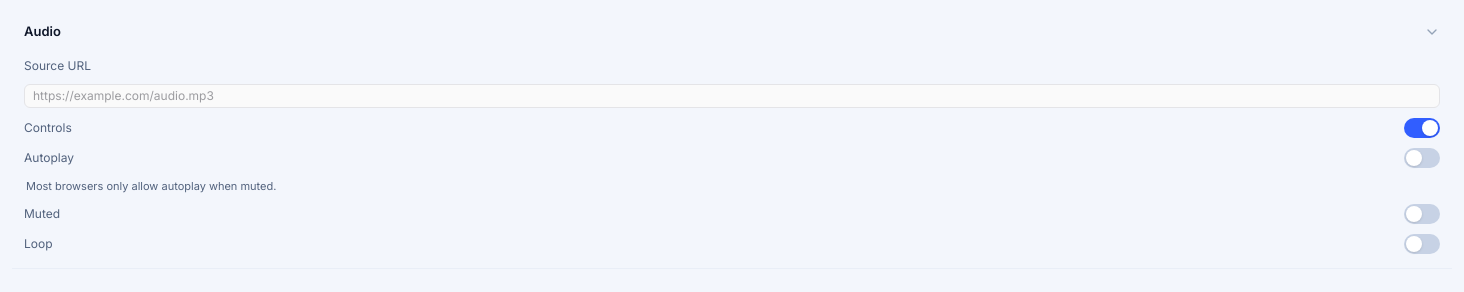
Test case: InspectorAudioSection (Checkpoint 1.15.6.12.3) › rejects a javascript: Source URL and shows an error instead of committing
Type "javascript:alert(1)" into the field labelled "Source URL". click: {"x": 732, "y": 96}
box: [24,84,1440,108]
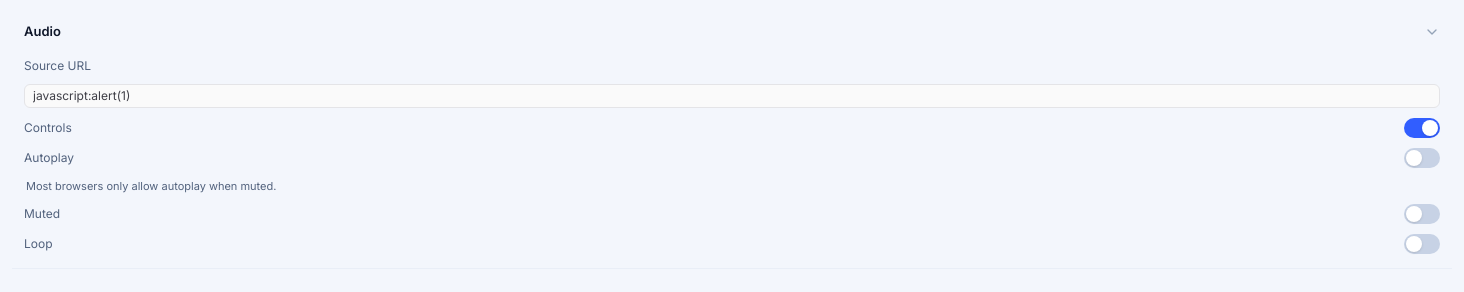
Leave the field labelled "Source URL", box [24,84,1440,108]
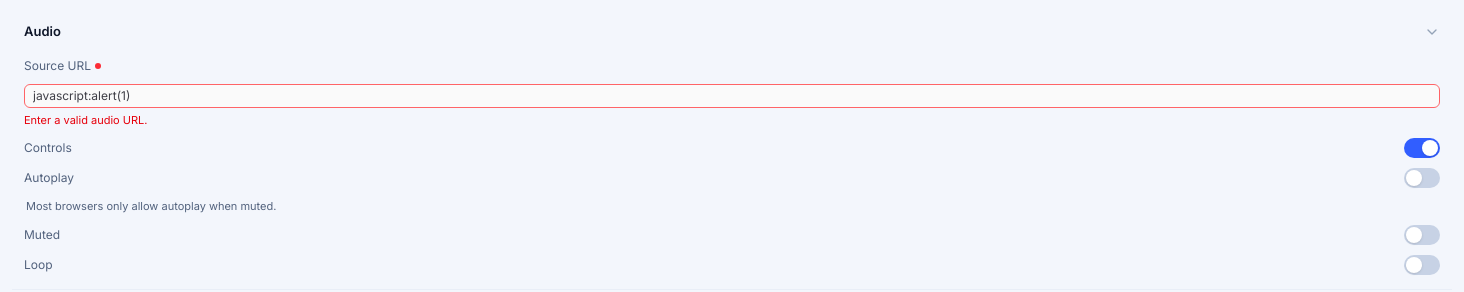
Now the text "Enter a valid audio URL." is shown, box [24,112,147,126]
